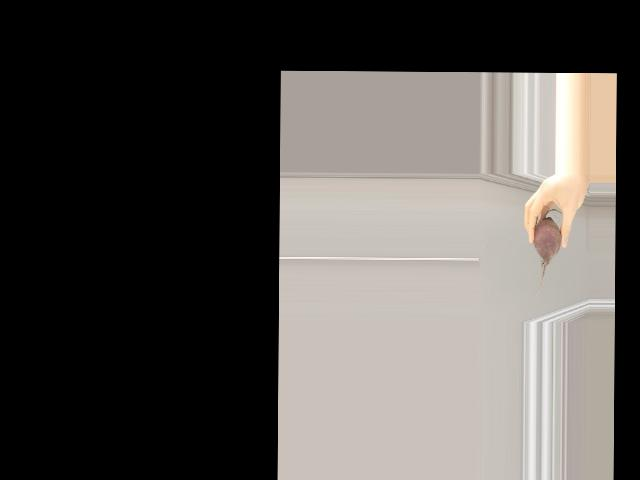beet: (533, 209, 562, 297)
